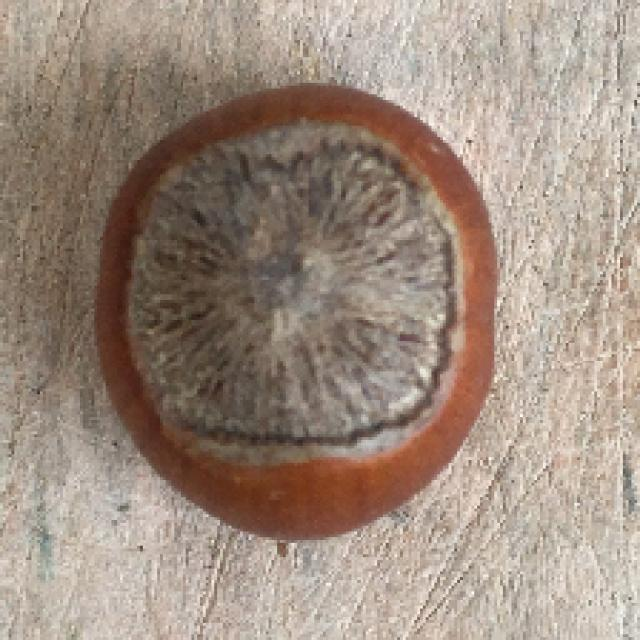qualityHazelnut: (92, 80, 500, 536)
